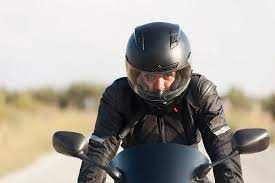helmets: (117, 21, 196, 121)
